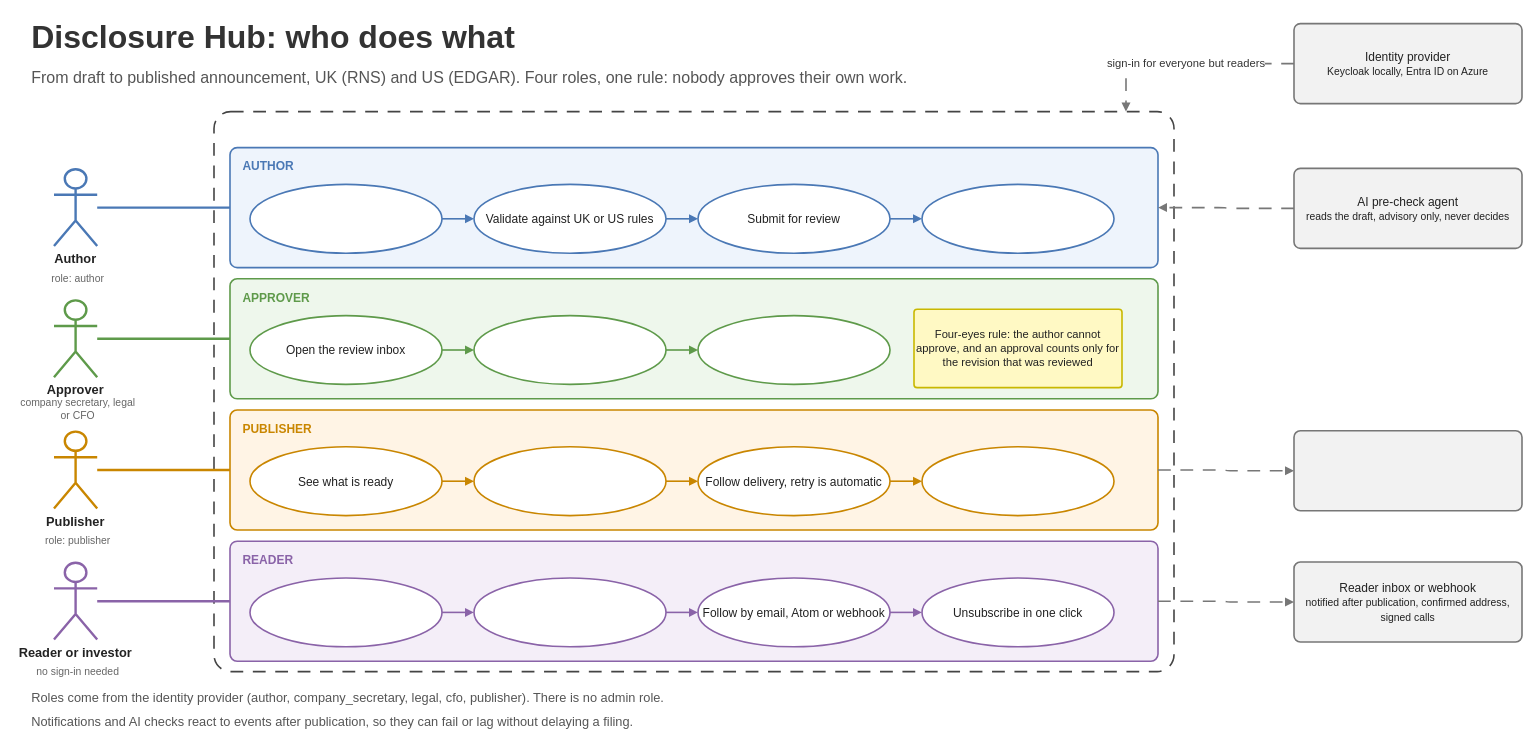
Some shapes in this 1536 by 747 pixel diagram are drawn without their labels. Each missing label, with the box of its shape:
Approve or request changes: (697, 314, 890, 385)
Browse the public archive: (249, 577, 442, 647)
Compare revisions side by side: (473, 314, 666, 385)
Disclosure Hub (one platform): (213, 110, 1174, 672)
Draft the announcement: (249, 183, 442, 254)
Filter by jurisdiction and text: (473, 577, 666, 647)
Keep the receipt (RNS number or accession): (921, 446, 1114, 516)
Newswire RNS (UK), EDGAR (US), mocked here. Files, and checks before every retry: (1293, 430, 1522, 511)
Publish to the newswire: (473, 446, 666, 516)
Revise after changes requested: (921, 183, 1114, 254)
